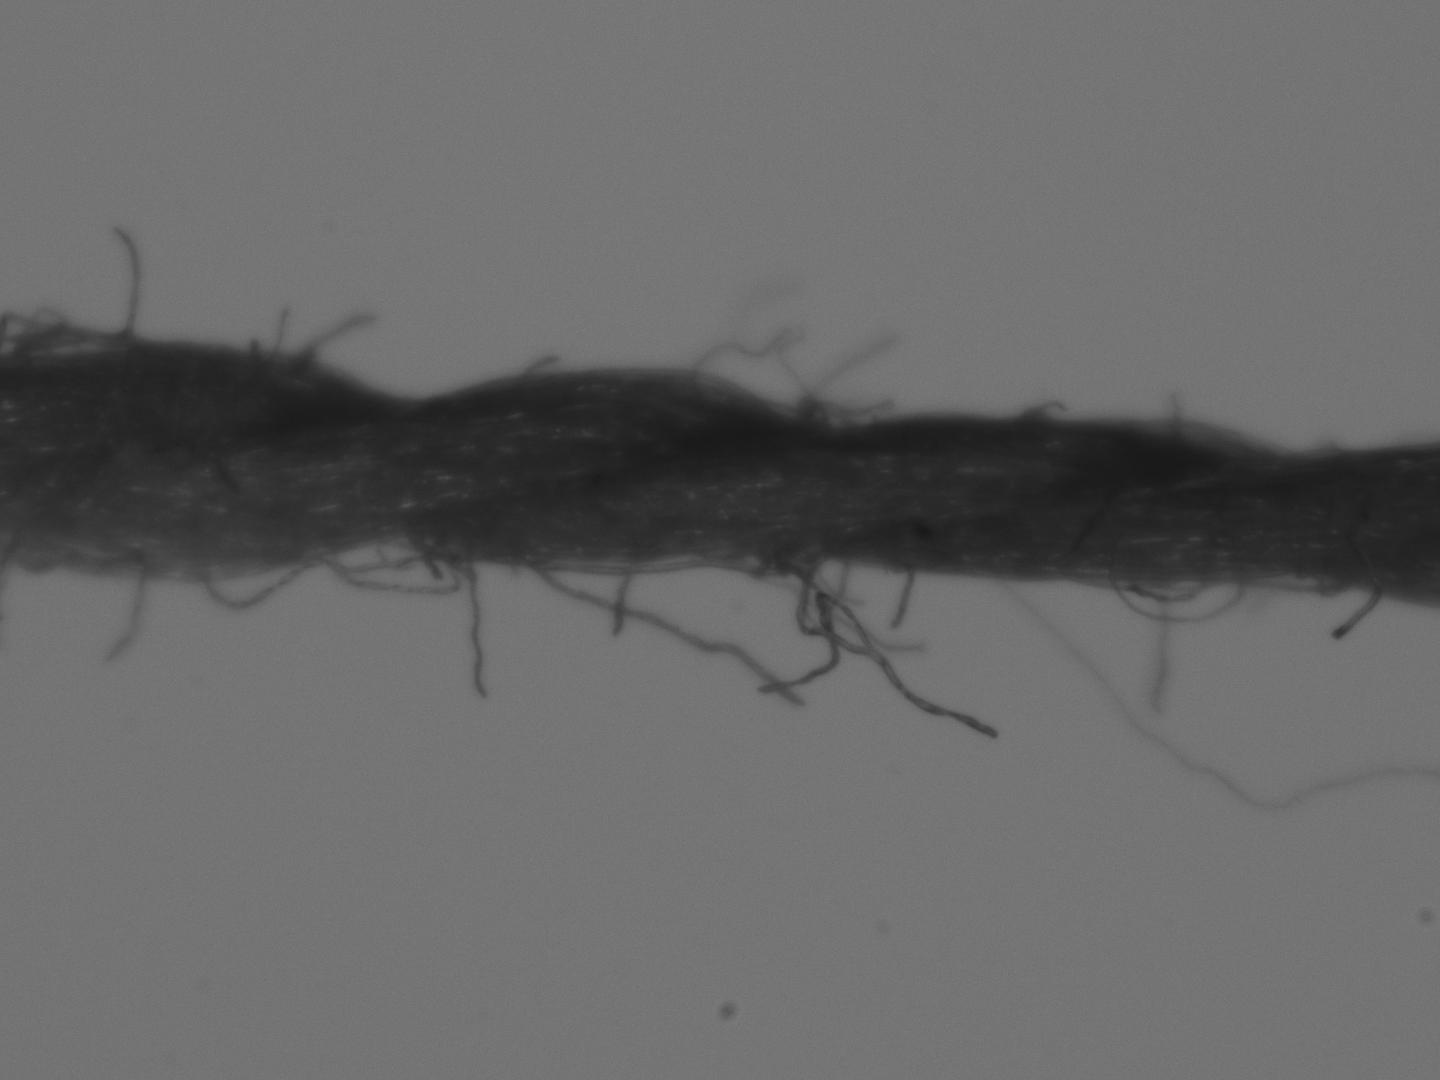loop_fiber: (686, 324, 896, 432), (187, 532, 466, 609), (2, 304, 181, 372), (1070, 575, 1261, 623)
protruding_fiber: (993, 575, 1439, 812), (753, 557, 1001, 743), (528, 562, 818, 708), (751, 551, 853, 701), (802, 332, 899, 413), (95, 222, 144, 354), (458, 545, 495, 700), (294, 306, 382, 365), (95, 569, 147, 663), (1146, 577, 1180, 715), (1328, 589, 1381, 644), (607, 559, 639, 636), (886, 557, 914, 632)
